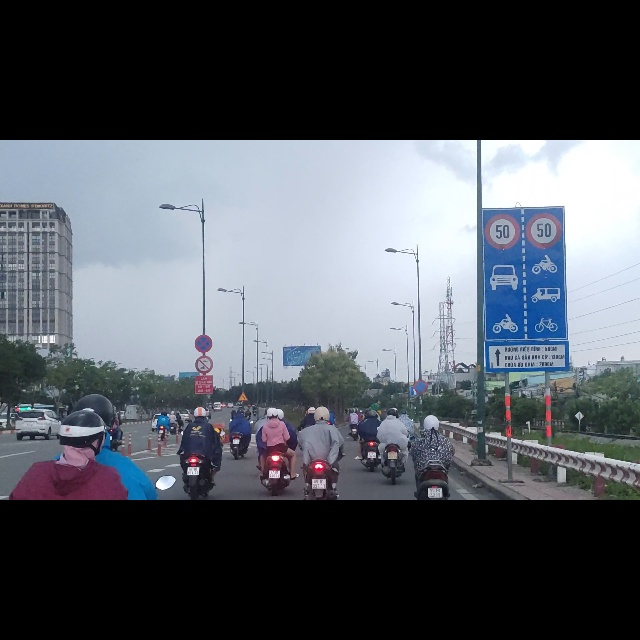bien_chi_dan: (524, 119, 565, 194), (483, 124, 521, 194), (195, 345, 213, 378), (195, 383, 213, 414), (414, 428, 427, 450), (238, 447, 248, 465)
